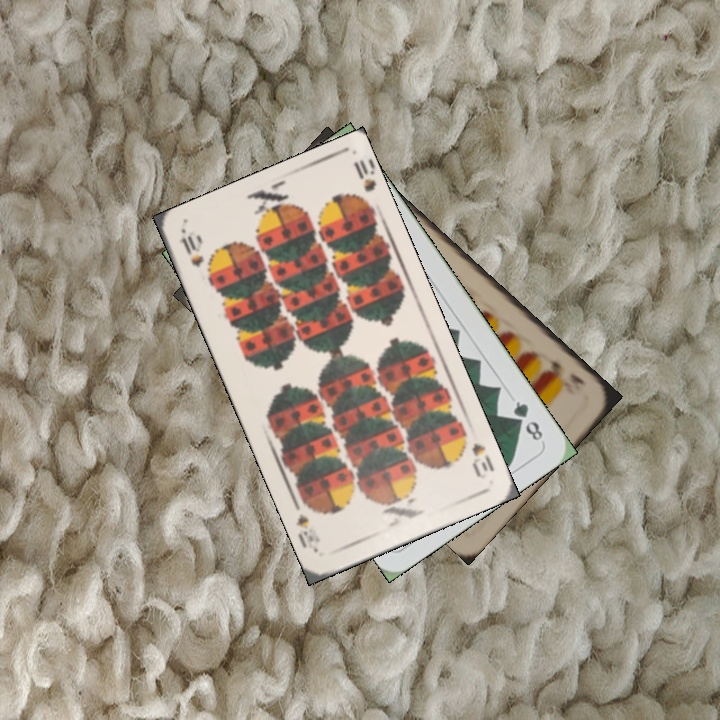E10: (543, 355, 588, 388)
G8: (509, 396, 546, 444)
S10: (456, 426, 497, 482), (175, 231, 207, 270)
